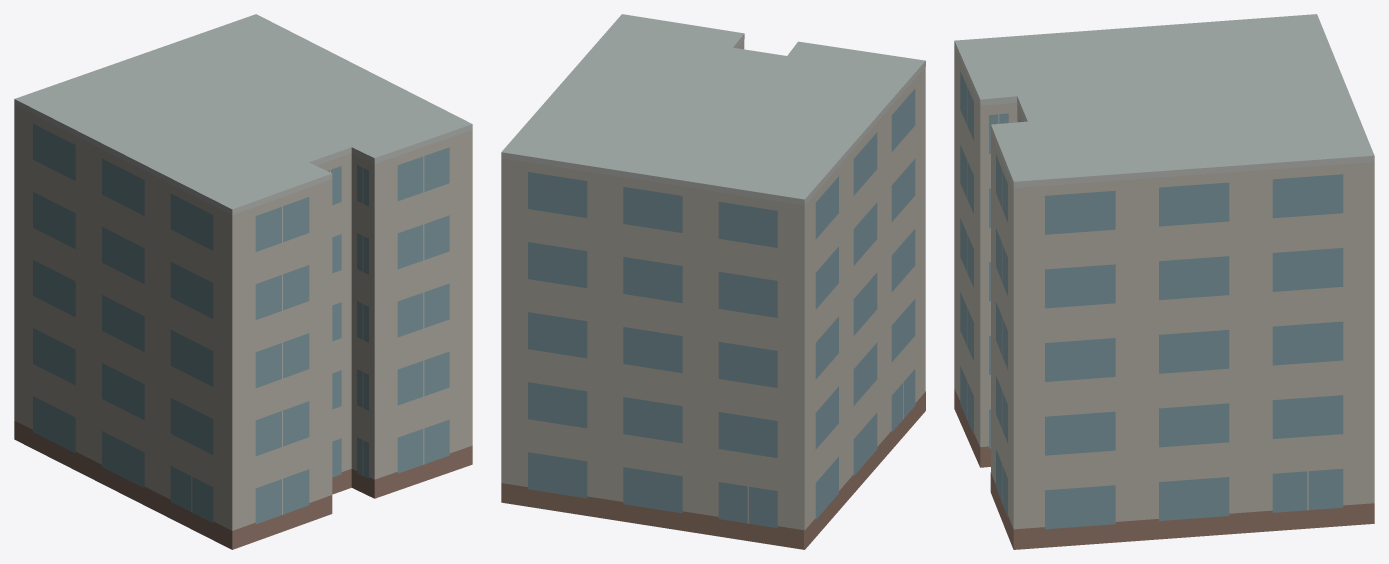
The model's file is survey-upis-32892272.glb.
The picture shows the model from 3 angles, left to right: view 1: azimuth 30°, elevation 25°; view 2: azimuth 150°, elevation 25°; view 3: azimuth 270°, elevation 25°; orthographic projection. The views are drawn at different scales.
Parts seen in each view (by area): view 1: survey-upis-32892272.tmp; view 2: survey-upis-32892272.tmp; view 3: survey-upis-32892272.tmp.
Part boxes in pixels (x1,y1,x2,y2): survey-upis-32892272.tmp: [14, 14, 472, 549]; survey-upis-32892272.tmp: [501, 14, 925, 549]; survey-upis-32892272.tmp: [954, 14, 1374, 549].
Bounding box in the file's own units: 14.09 × 14.4 × 14.91.
